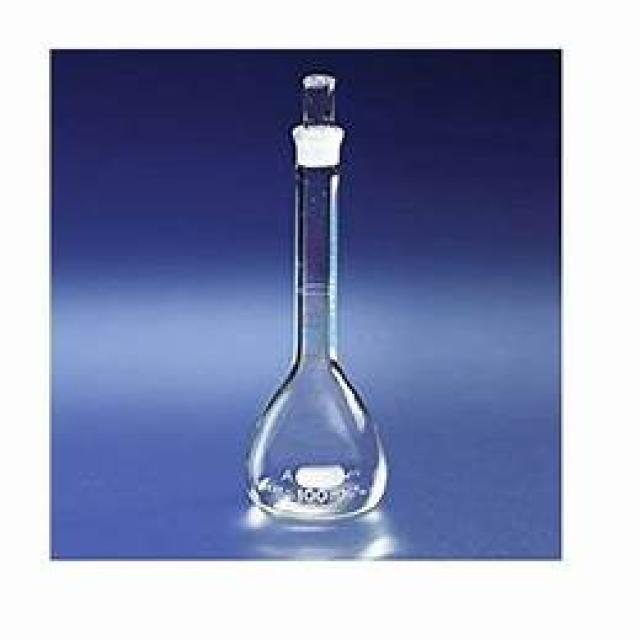Volumetric flask: (241, 66, 397, 516)
